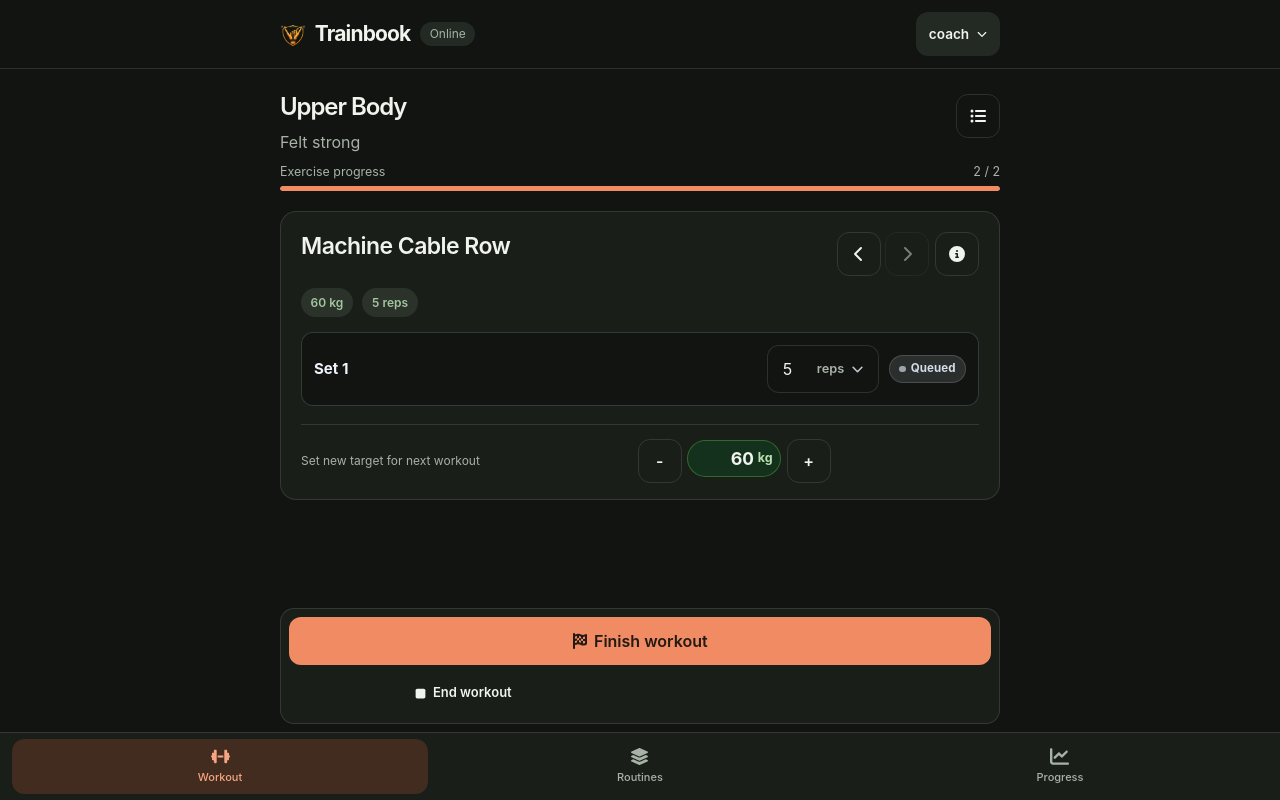
Test case: Offline workout completion › includes sets and completion of the final exercise before automatically finishing offline
Click the button "Finish workout" at x=640, y=641, box x1=289 y1=617 x2=991 y2=665
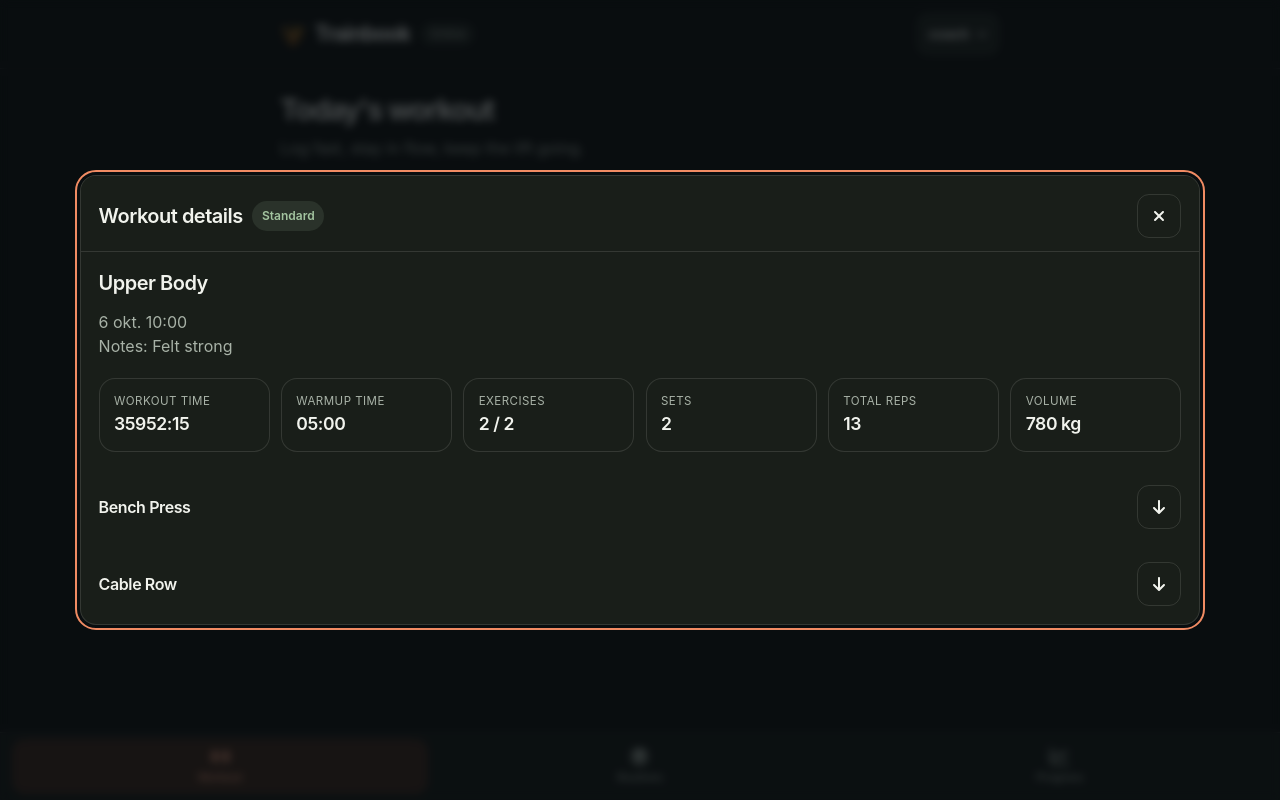
expect the text "2" is shown: met, box x1=661 y1=412 x2=672 y2=434
expect the text "13" is shown: met, box x1=843 y1=412 x2=861 y2=434
expect the text "780 kg" is shown: met, box x1=1026 y1=412 x2=1081 y2=434
Click the button named "Show 1 sets for Cable Row" at x=1159, y=584, box x1=1137 y1=562 x2=1181 y2=606
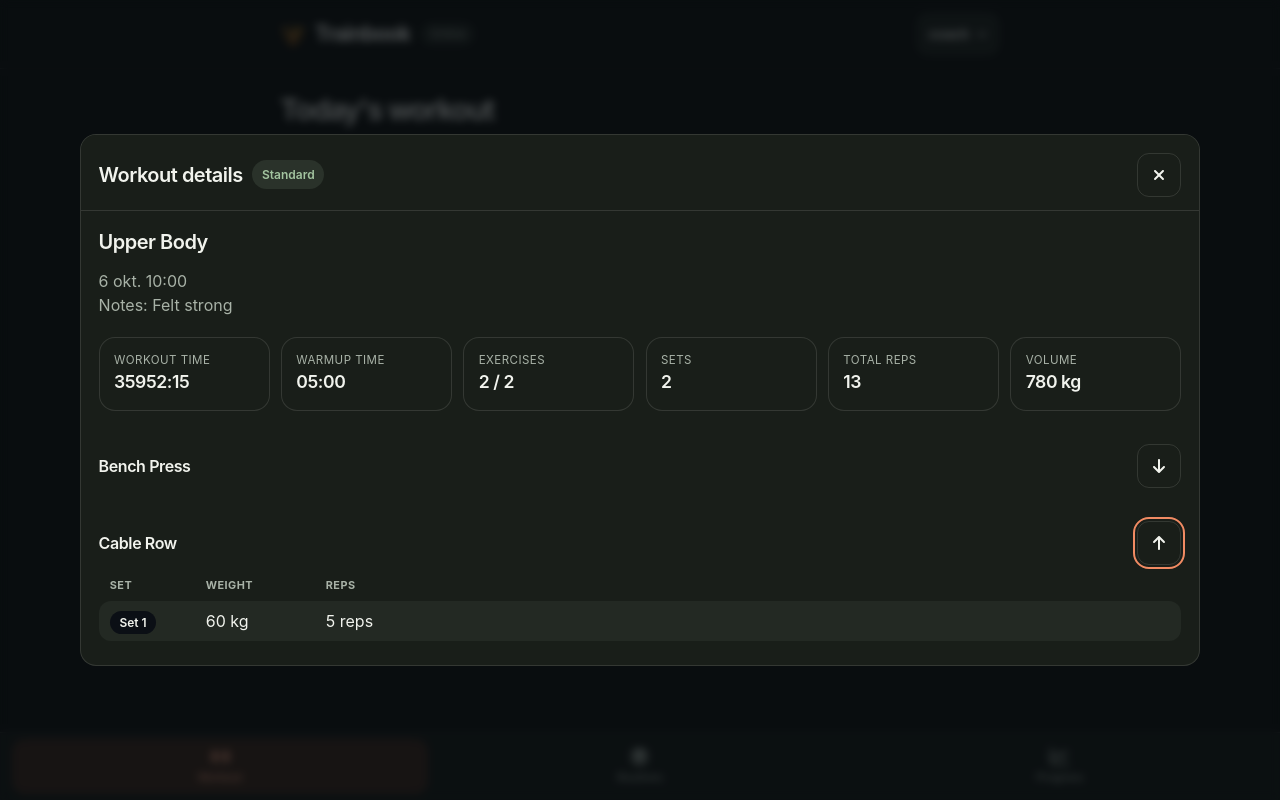
expect the text "5 reps" is shown: met, box x1=315 y1=601 x2=1181 y2=641
expect the text "60 kg" is shown: met, box x1=195 y1=601 x2=315 y2=641
